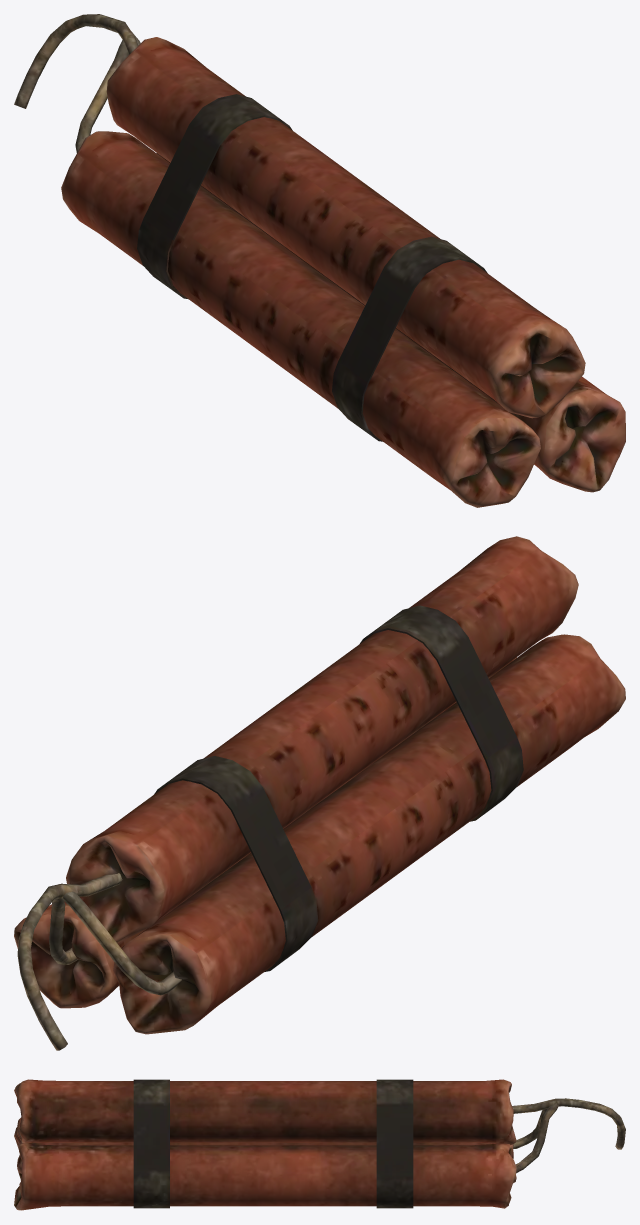
The model's file is item-dynamite.glb.
3 renders of one model, top to bottom at view 1: azimuth 30°, elevation 25°; view 2: azimuth 150°, elevation 25°; view 3: azimuth 270°, elevation 25°, orthographic. The views are drawn at different scales.
Parts seen in each view (by area): view 1: Dynamite; view 2: Dynamite; view 3: Dynamite.
Boxes of the visible parts, left/top/right/bottom form: Dynamite: left=14, top=14, right=625, bottom=507; Dynamite: left=14, top=536, right=625, bottom=1050; Dynamite: left=14, top=1079, right=625, bottom=1210.
Size of the model in its own units: 0.0849 by 0.0785 by 0.39.
Materials: 1 (1 with a texture image).
